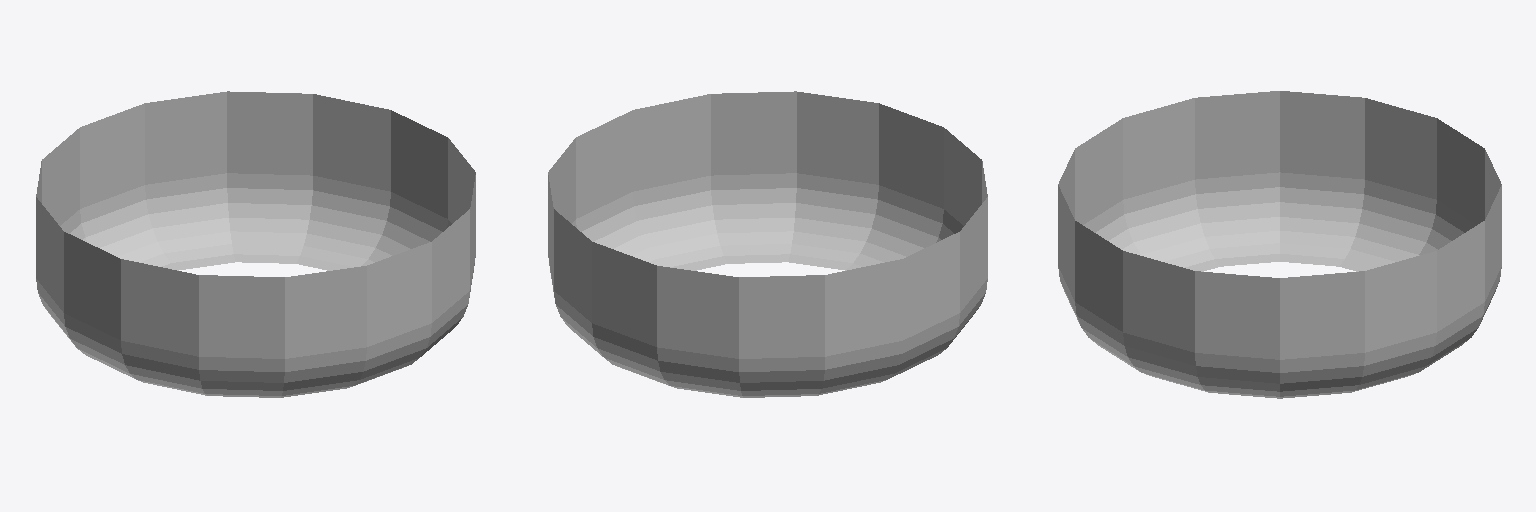
Rendered from rockbig.obj.
3 renders of one model, left to right at view 1: azimuth 30°, elevation 25°; view 2: azimuth 150°, elevation 25°; view 3: azimuth 270°, elevation 25°, orthographic.
Visible parts, largest first — view 1: Rectangle001; view 2: Rectangle001; view 3: Rectangle001.
Boxes of the visible parts, <box> form: Rectangle001: <box>36,91,475,397</box>; Rectangle001: <box>548,91,987,397</box>; Rectangle001: <box>1058,91,1501,398</box>.
Size of the model in its own units: 6338 by 2257 by 6338.